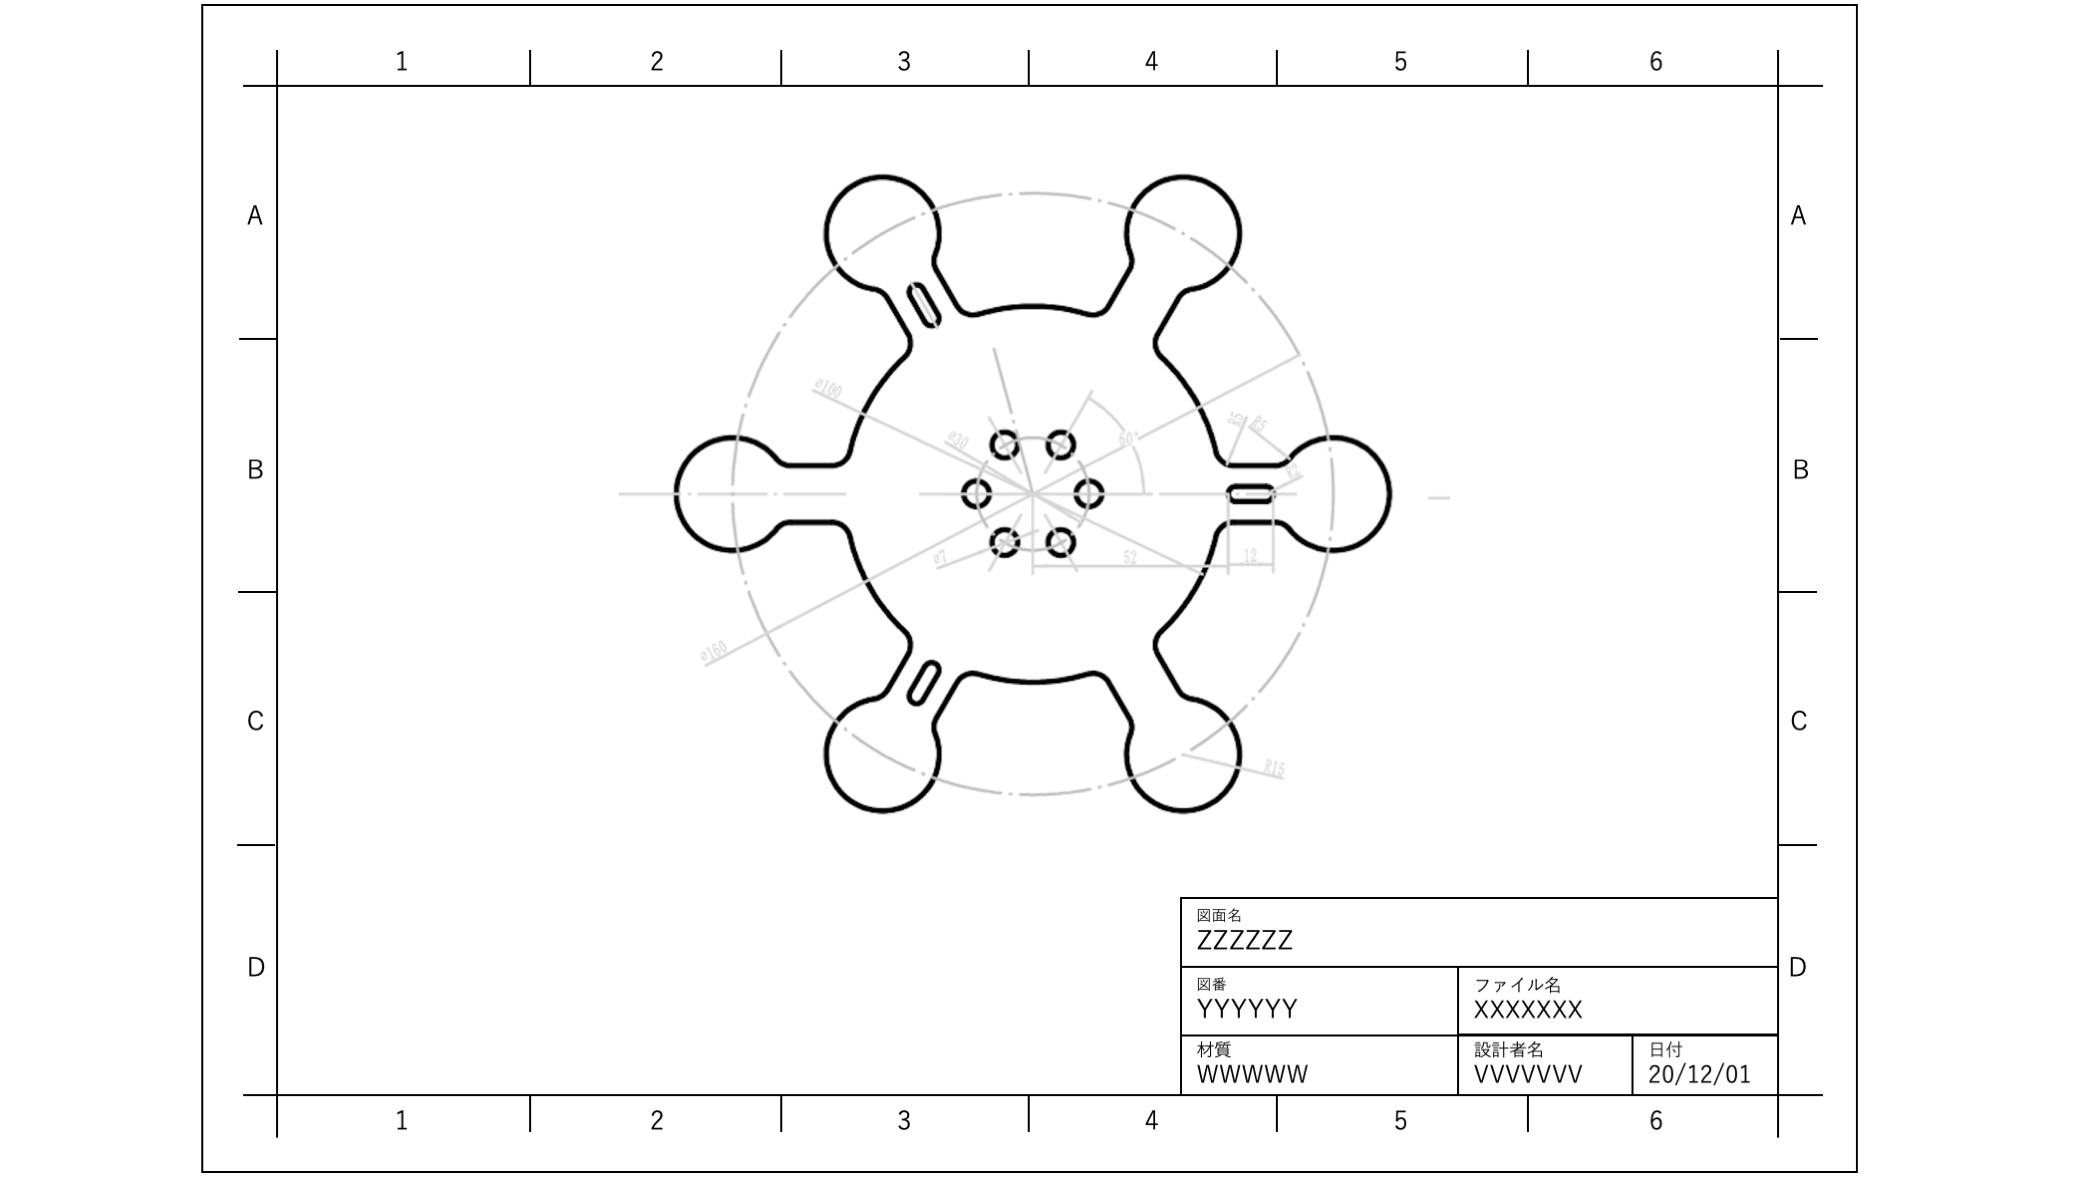circle: (971, 518, 1023, 562), (1038, 417, 1086, 464), (1036, 521, 1085, 562), (1067, 470, 1112, 515), (958, 472, 994, 519), (985, 427, 1025, 460)
round_rectangle: (891, 650, 945, 712), (901, 270, 945, 337), (1213, 482, 1279, 513)
